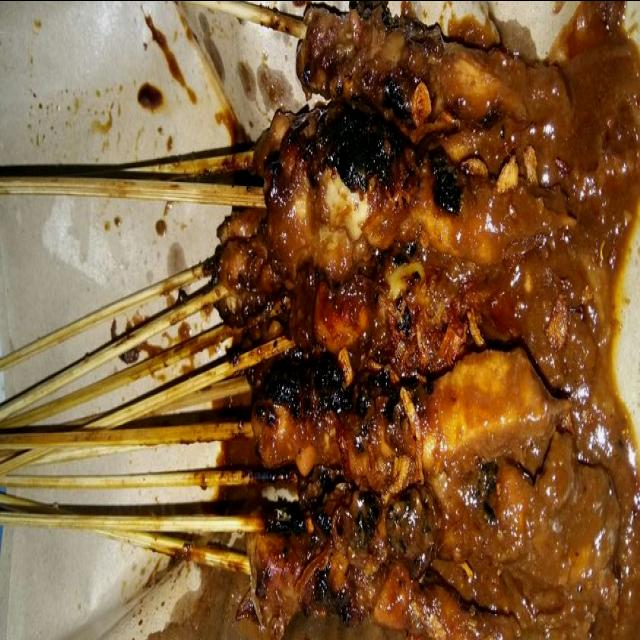sate: (0, 0, 640, 640)
